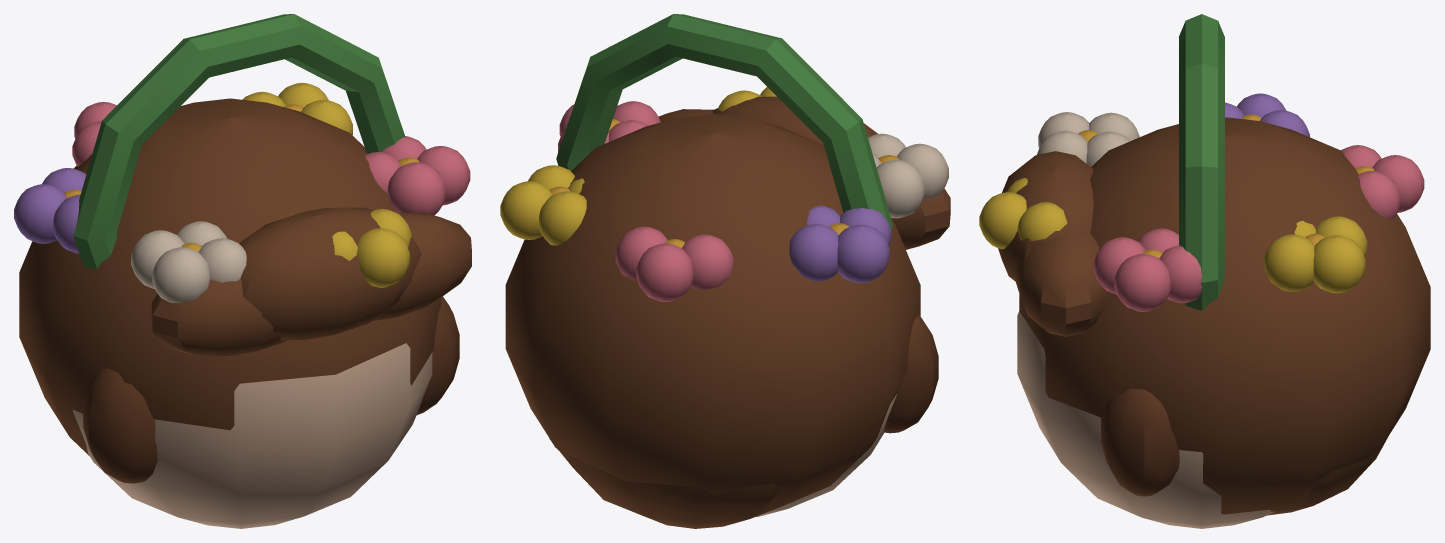
The model's file is boy-flower-balloon-head.glb.
3 renders of one model, left to right at view 1: azimuth 30°, elevation 25°; view 2: azimuth 150°, elevation 25°; view 3: azimuth 270°, elevation 25°, orthographic. The views are drawn at different scales.
Visible parts, largest first — view 1: player_boy-flower-balloon:head; view 2: player_boy-flower-balloon:head; view 3: player_boy-flower-balloon:head.
Boxes of the visible parts, box(x1,y1,x2,y2) form: player_boy-flower-balloon:head: box(14, 14, 471, 528); player_boy-flower-balloon:head: box(500, 14, 950, 528); player_boy-flower-balloon:head: box(979, 14, 1430, 528).
Bounding box in the file's own units: 0.4181 × 0.4988 × 0.4318.
